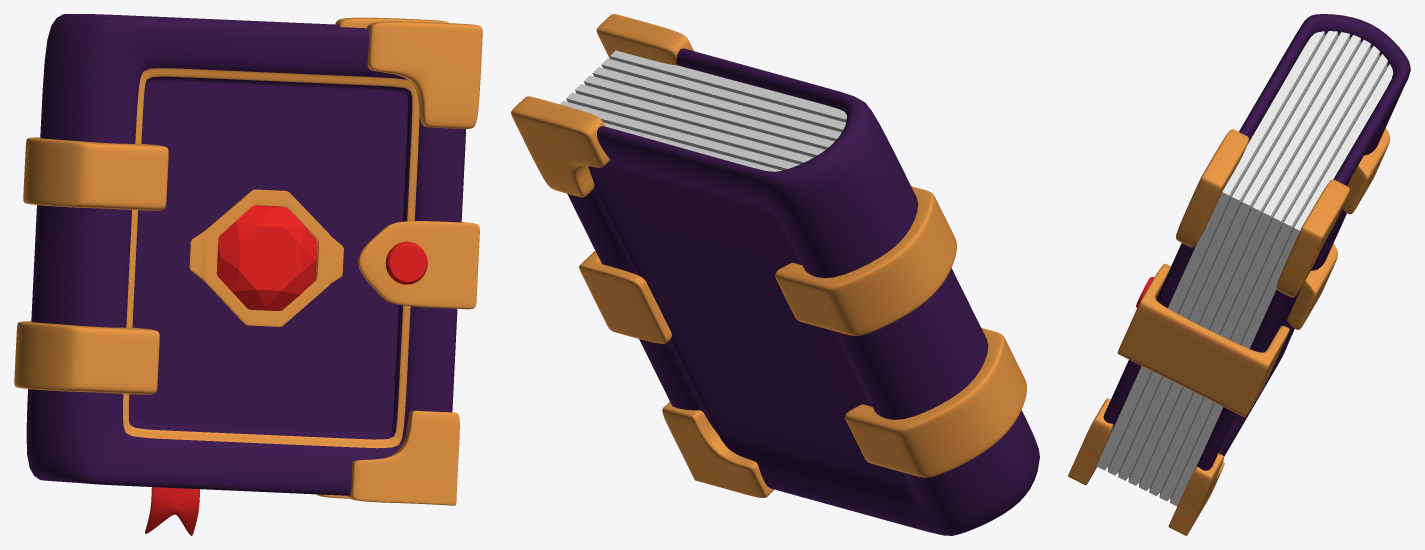
File: SpellBook.glb
The picture shows the model from 3 angles, left to right: view 1: azimuth 30°, elevation 25°; view 2: azimuth 150°, elevation 25°; view 3: azimuth 270°, elevation 25°; orthographic projection. The views are drawn at different scales.
Parts seen in each view (by area): view 1: Cube, Cube.003, Cube.007, Cube.002, Gem, Cube.008, Cylinder.001, Plane, Cylinder; view 2: Cube, Cube.001, Cube.003, Cube.002, Cube.007, Cube.008; view 3: Cube.001, Cube, Cube.008, Cube.003, Cube.007, Cube.002.
Part boxes in pixels (box(x1,y1,x2,y2)): Cube: box(26, 14, 466, 495); Cube.003: box(317, 17, 482, 505); Cube.007: box(14, 321, 159, 394); Cube.002: box(23, 137, 168, 210); Gem: box(216, 205, 317, 310); Cube.008: box(358, 221, 479, 309); Cylinder.001: box(189, 189, 343, 326); Plane: box(145, 487, 199, 535); Cylinder: box(385, 241, 427, 284); Cube: box(567, 48, 1039, 535); Cube.001: box(560, 50, 846, 171); Cube.003: box(511, 14, 774, 497); Cube.002: box(775, 186, 956, 335); Cube.007: box(845, 328, 1026, 477); Cube.008: box(579, 251, 671, 343); Cube.001: box(1096, 31, 1393, 506); Cube: box(1103, 14, 1410, 470); Cube.008: box(1117, 263, 1289, 417); Cube.003: box(1068, 129, 1349, 535); Cube.007: box(1287, 243, 1337, 329); Cube.002: box(1342, 128, 1389, 214).
Bounding box in the file's own units: 0.7385 × 0.7469 × 0.5509.
